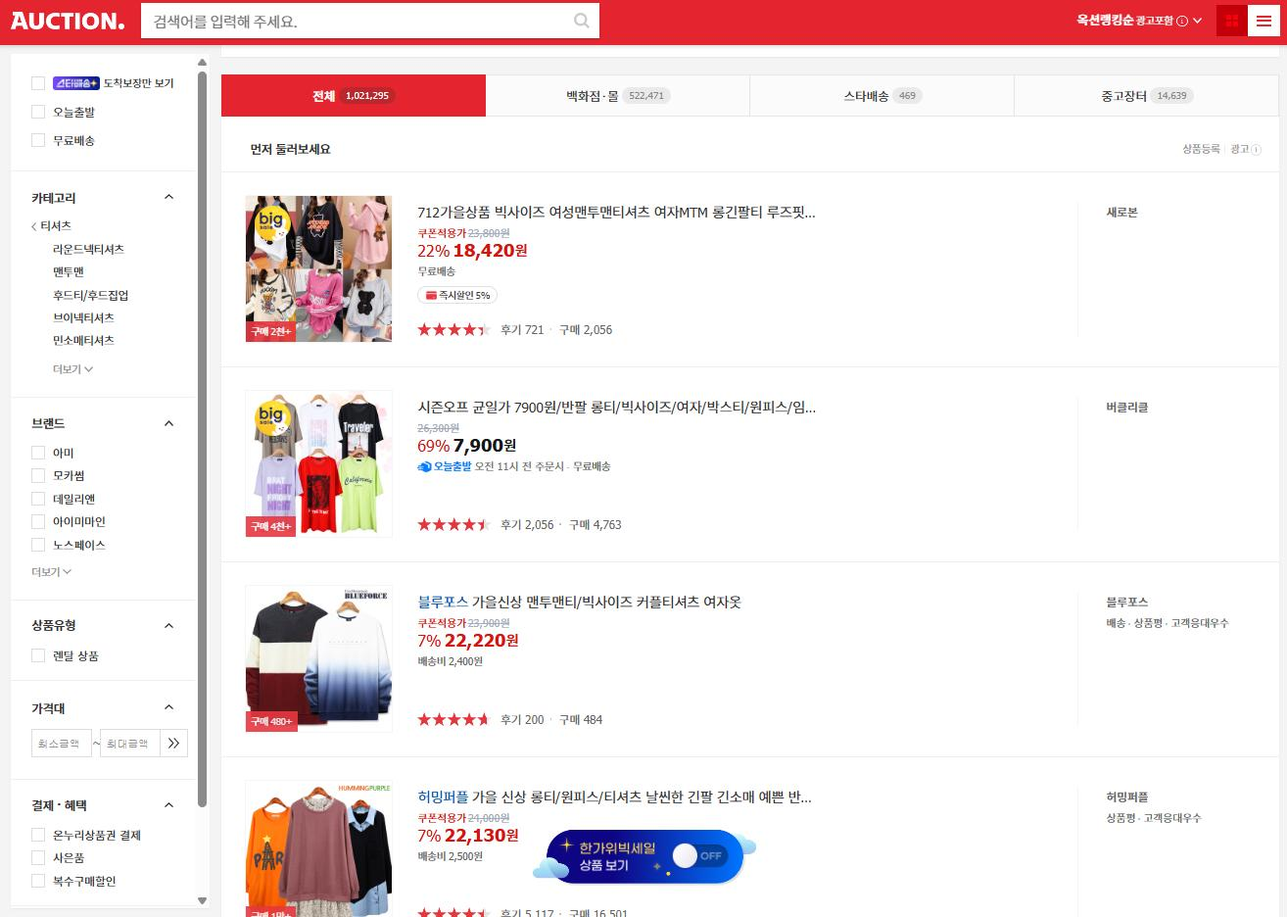button: (1020, 73, 1281, 119), (223, 74, 483, 119), (487, 74, 749, 118), (753, 72, 1012, 116), (50, 284, 136, 304), (50, 329, 127, 351), (51, 309, 120, 330), (49, 241, 134, 258), (25, 212, 81, 237), (1215, 2, 1248, 38), (1251, 2, 1280, 41), (51, 263, 94, 281), (165, 729, 189, 758)
checkbox: (1063, 0, 1210, 45), (24, 181, 187, 211), (20, 69, 184, 97), (26, 791, 185, 818), (24, 406, 189, 431), (28, 695, 182, 716), (31, 614, 184, 635), (24, 123, 122, 154), (22, 97, 122, 125), (27, 823, 154, 845), (26, 871, 129, 893), (23, 647, 116, 668), (26, 534, 111, 555), (26, 510, 108, 531), (27, 845, 91, 868), (26, 487, 99, 507), (47, 360, 107, 382), (30, 442, 82, 465), (28, 465, 90, 484), (28, 563, 78, 581)
input_field: (139, 0, 603, 48), (27, 727, 163, 760)
popup: (539, 827, 747, 887)
